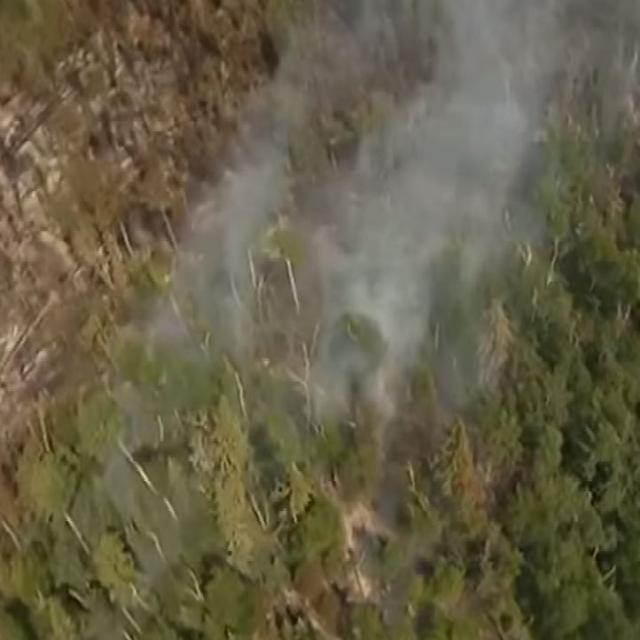Smoke: (143, 0, 600, 514)
